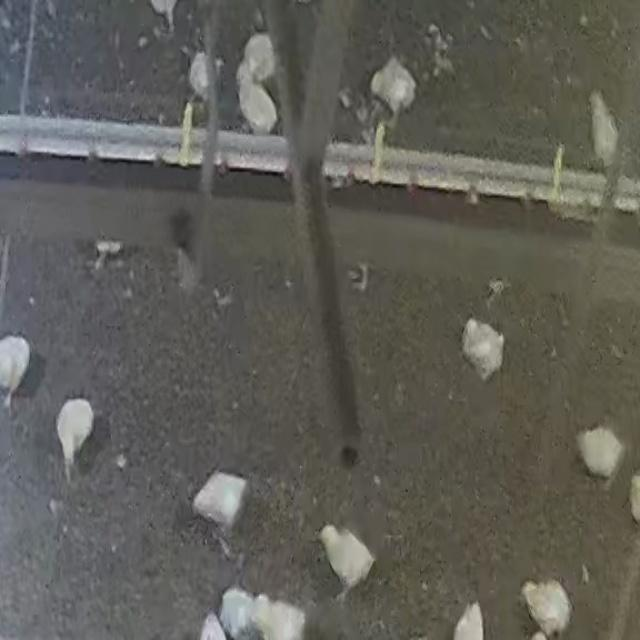chicken: (189, 466, 250, 567), (318, 525, 375, 594), (53, 397, 97, 480), (232, 70, 277, 139), (522, 578, 572, 638), (370, 57, 417, 120), (461, 318, 505, 382), (576, 426, 623, 482), (589, 91, 620, 165), (1, 335, 30, 406), (241, 32, 278, 84), (450, 602, 486, 640), (188, 51, 216, 99)
